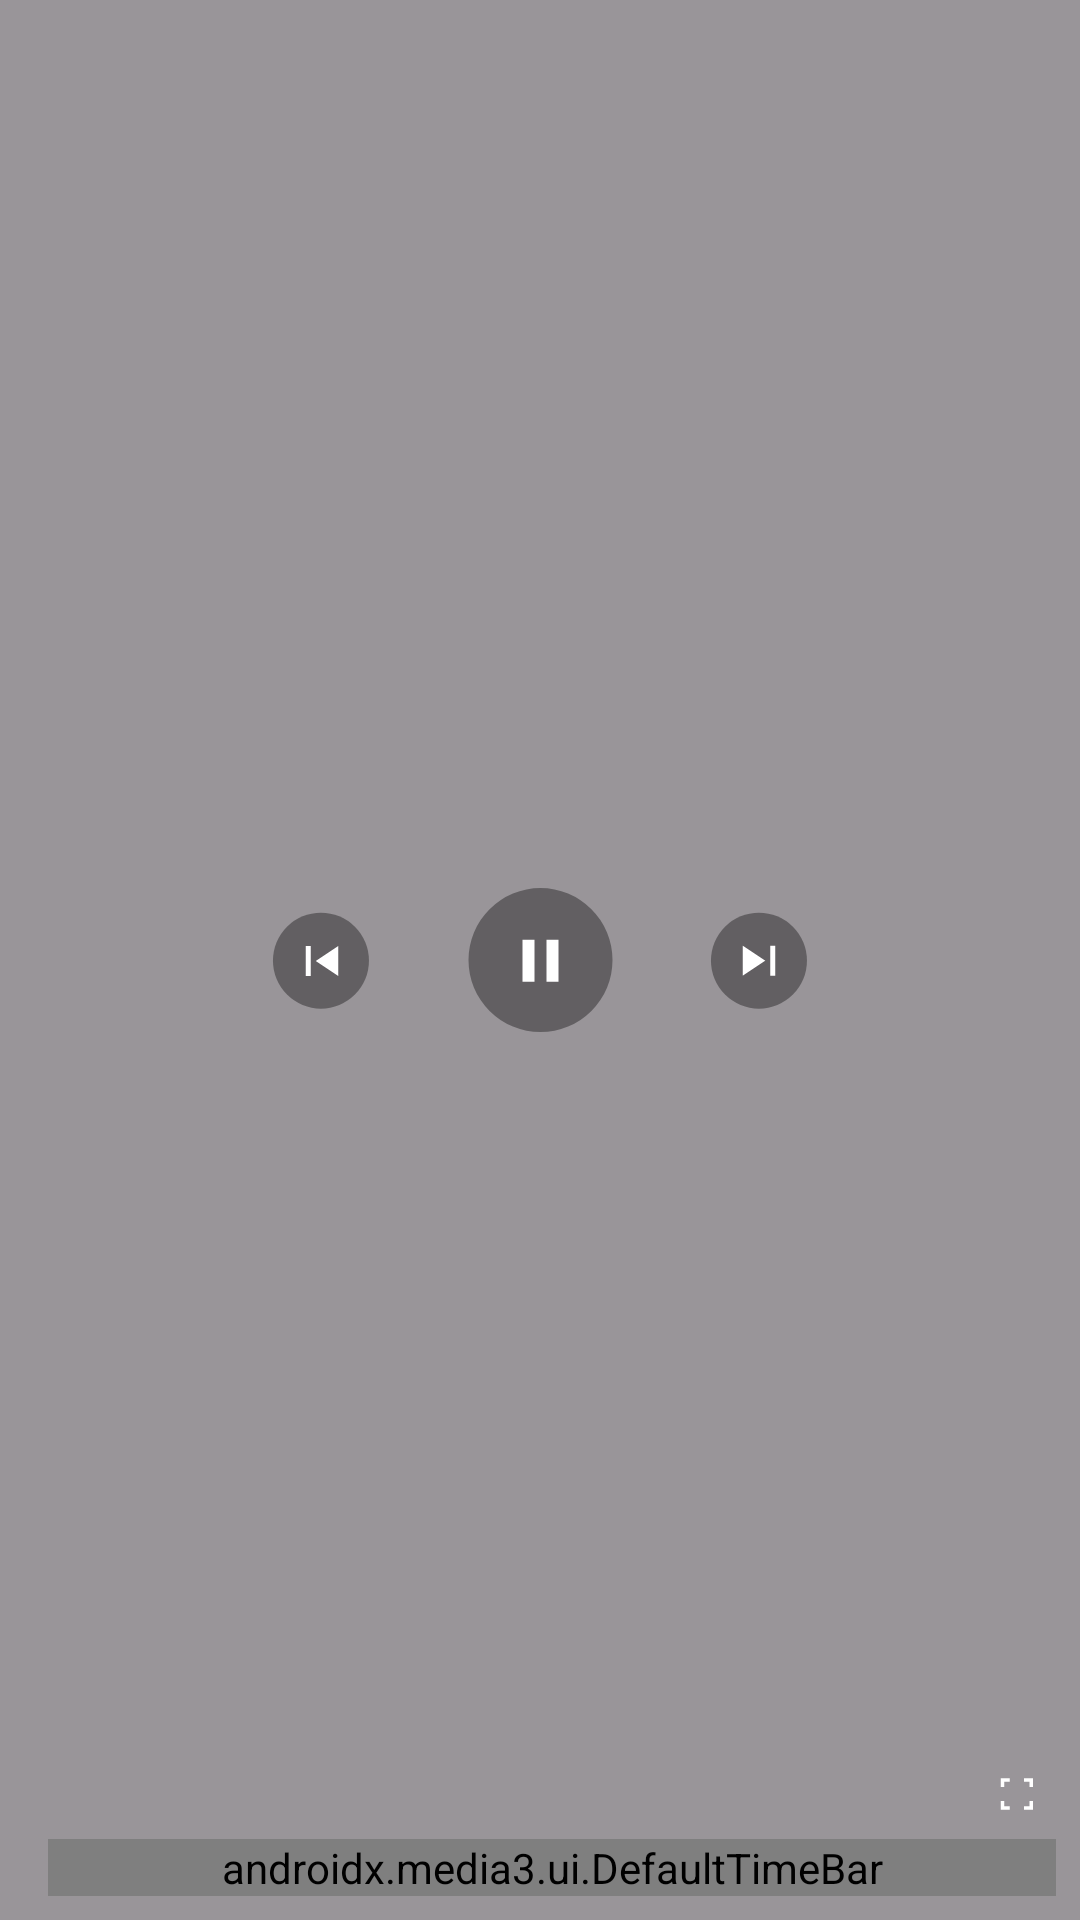

Icons on this 1080px×1920px Android screen, each with its box as (x1, y1, x2, y2):
fullscreen: (1000, 1778, 1033, 1810)
pause: (468, 888, 613, 1032)
skip back: (273, 913, 369, 1009)
skip forward: (711, 913, 807, 1009)
